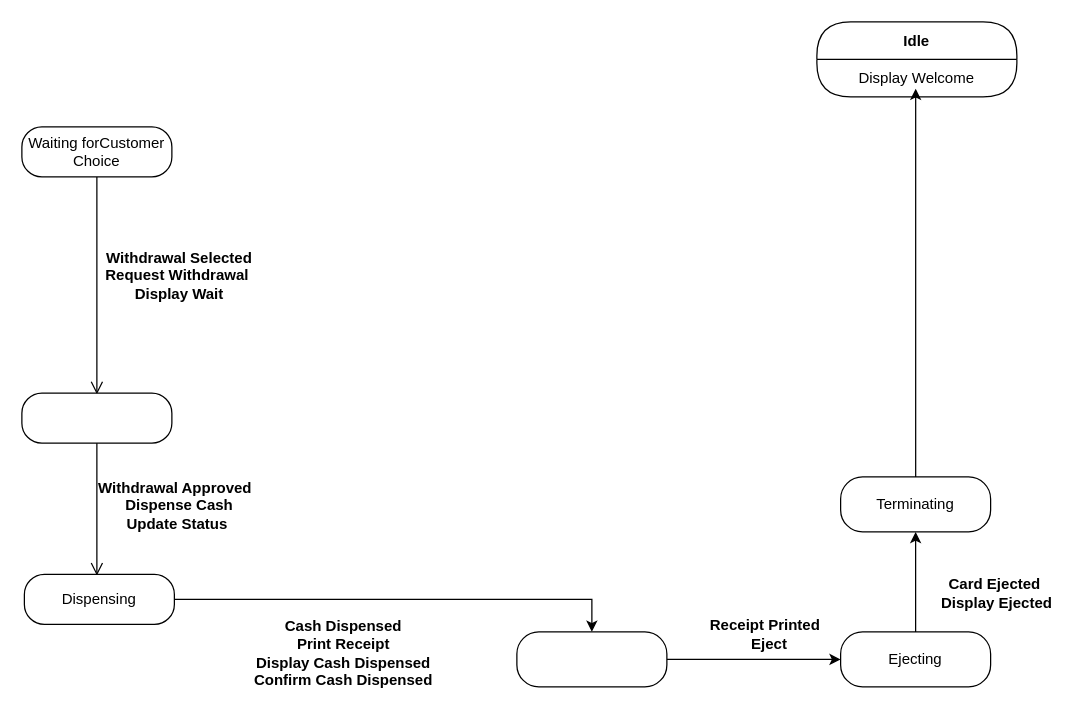
This 1074x713 diagram has some shape labels left out. The shapes that lost their labels are listed below. From the top down, each one's centre as x and y in pixels, then its label:
At (96,417): "Processing Withdrawal".
At (591,659): "Printing".
